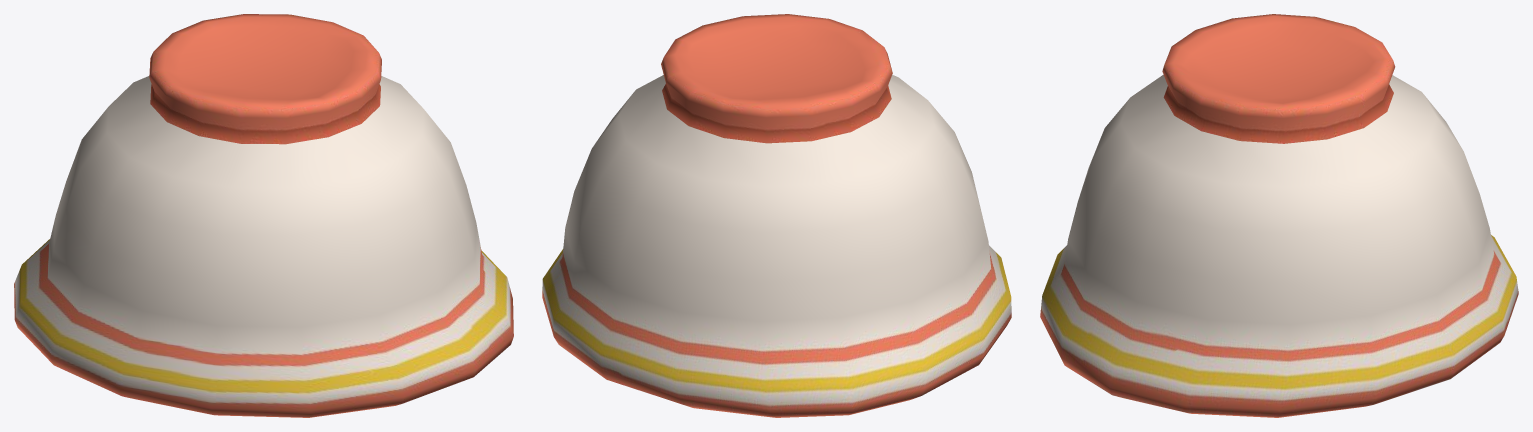
The model's file is Bowl1.fbx.
3 views of the same model, side by side, from view 1: azimuth 30°, elevation 25°; view 2: azimuth 150°, elevation 25°; view 3: azimuth 270°, elevation 25° (orthographic).
Visible parts, largest first — view 1: Bowl1; view 2: Bowl1; view 3: Bowl1.
Part boxes in pixels (bbox=[...]): Bowl1: bbox=[14, 14, 513, 417]; Bowl1: bbox=[542, 14, 1011, 417]; Bowl1: bbox=[1040, 14, 1518, 417].
Bounding box in the file's own units: 2.43 × 1.48 × 2.42.
